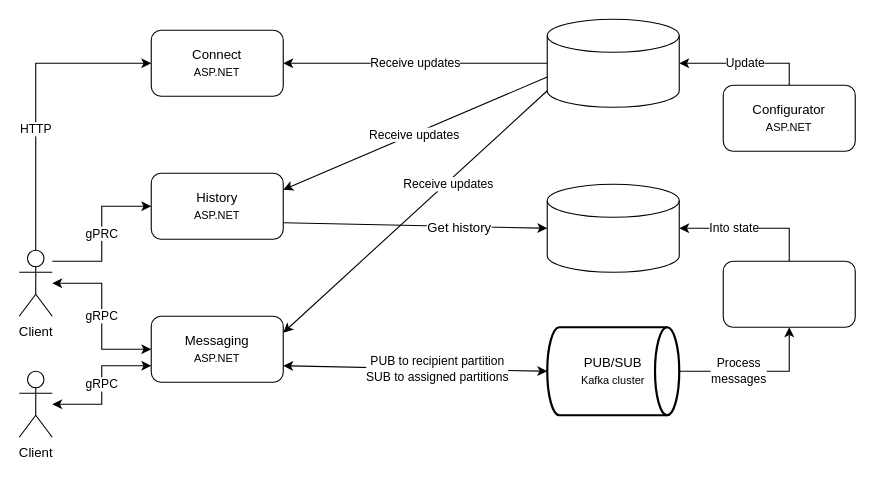
This 875x480 diagram has some shape labels left out. Each missing label, with the box of its shape:
Configuration Redis cluster: (546, 18, 679, 107)
DB Cassandra cluster: (546, 183, 679, 272)
Materialize Background: (722, 260, 855, 327)
